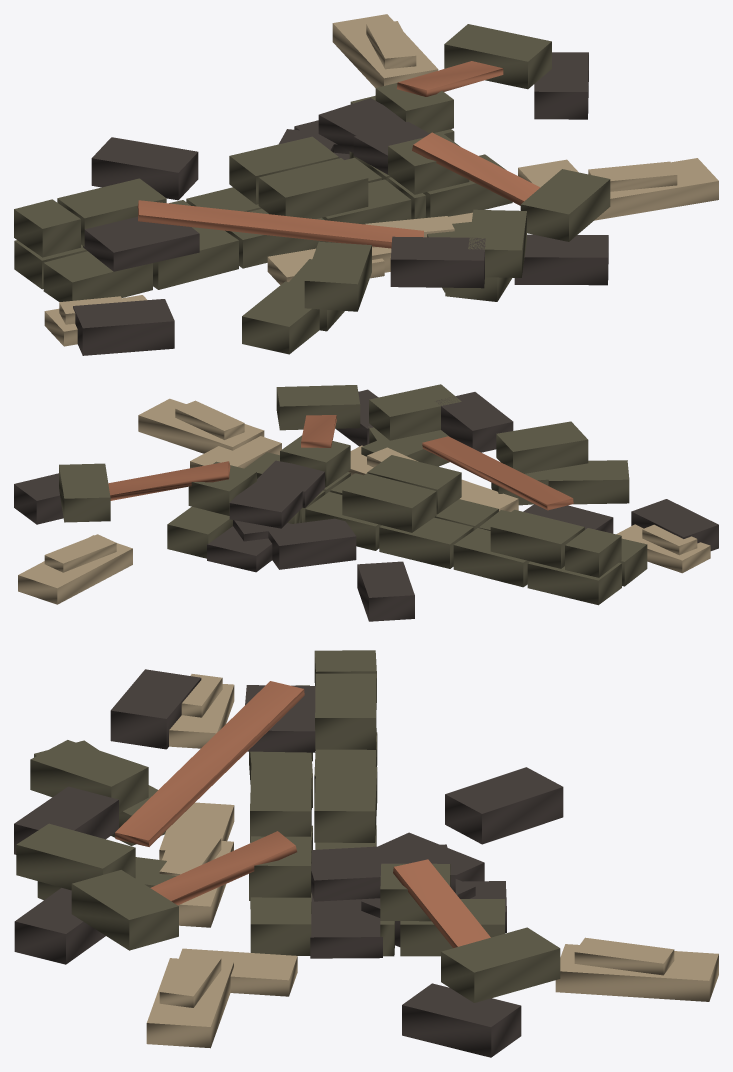
The model's file is SM_SacosRemateEspejo_v3_Tablon_e2_MuyDanado_LOD0.fbx.
The picture shows the model from 3 angles, top to bottom: view 1: azimuth 30°, elevation 25°; view 2: azimuth 150°, elevation 25°; view 3: azimuth 270°, elevation 25°; orthographic projection. The views are drawn at different scales.
Visible parts, largest first — view 1: SM_sacos_piezas_v34_LOD0; view 2: SM_sacos_piezas_v34_LOD0; view 3: SM_sacos_piezas_v34_LOD0.
Boxes of the visible parts, x1,y1,x2,y2 form: SM_sacos_piezas_v34_LOD0: [14, 14, 718, 355]; SM_sacos_piezas_v34_LOD0: [14, 384, 718, 621]; SM_sacos_piezas_v34_LOD0: [14, 650, 718, 1057].
Size of the model in its own units: 6.58 by 0.6798 by 5.44.
